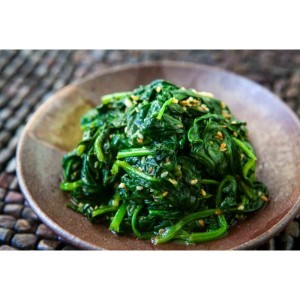spinach_brain food: (61, 83, 259, 232)
